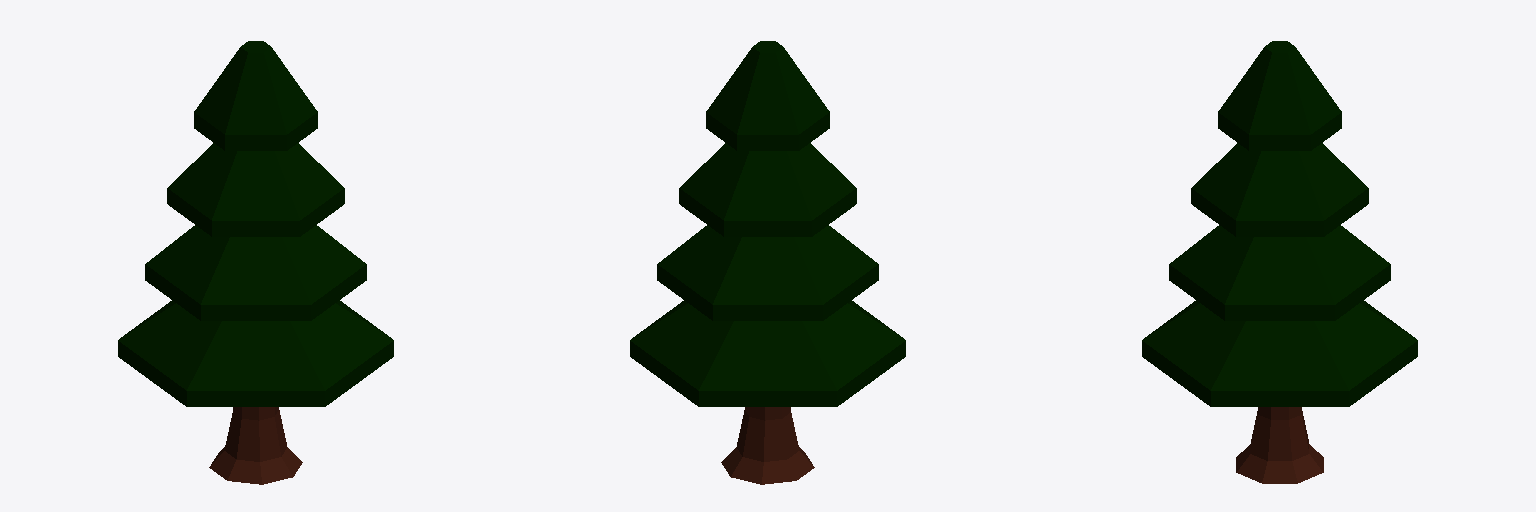
Rendered from tree3.obj.
3 views of the same model, side by side, from view 1: azimuth 30°, elevation 25°; view 2: azimuth 150°, elevation 25°; view 3: azimuth 270°, elevation 25° (orthographic).
Visible parts, largest first — view 1: leafs_pineA, trunk_base; view 2: leafs_pineA, trunk_base; view 3: leafs_pineA, trunk_base.
Part boxes in pixels (bbox=[...]): leafs_pineA: bbox=[118, 41, 393, 406]; trunk_base: bbox=[209, 410, 302, 484]; leafs_pineA: bbox=[630, 41, 905, 406]; trunk_base: bbox=[721, 410, 814, 484]; leafs_pineA: bbox=[1142, 41, 1417, 406]; trunk_base: bbox=[1236, 411, 1323, 483].
Size of the model in its own units: 2 by 3.85 by 2.31.